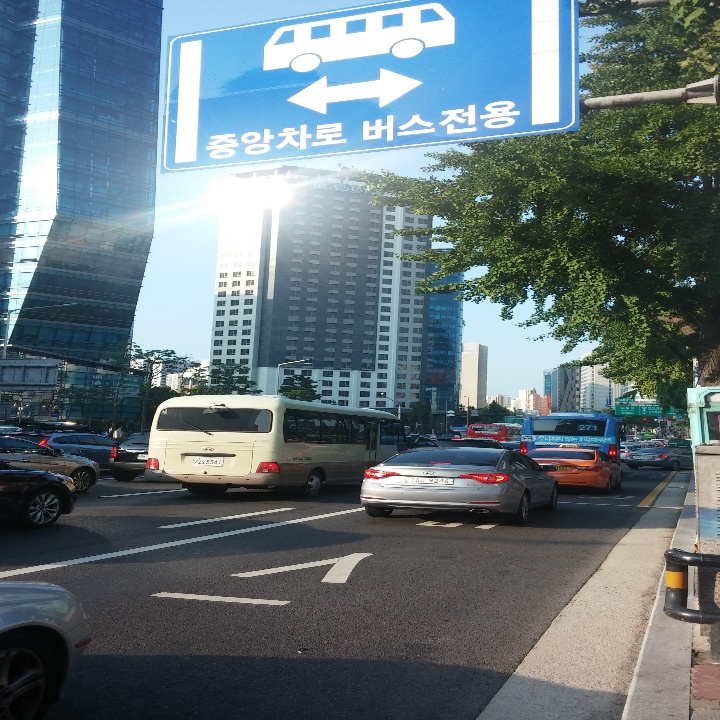bus: (257, 3, 459, 71)
